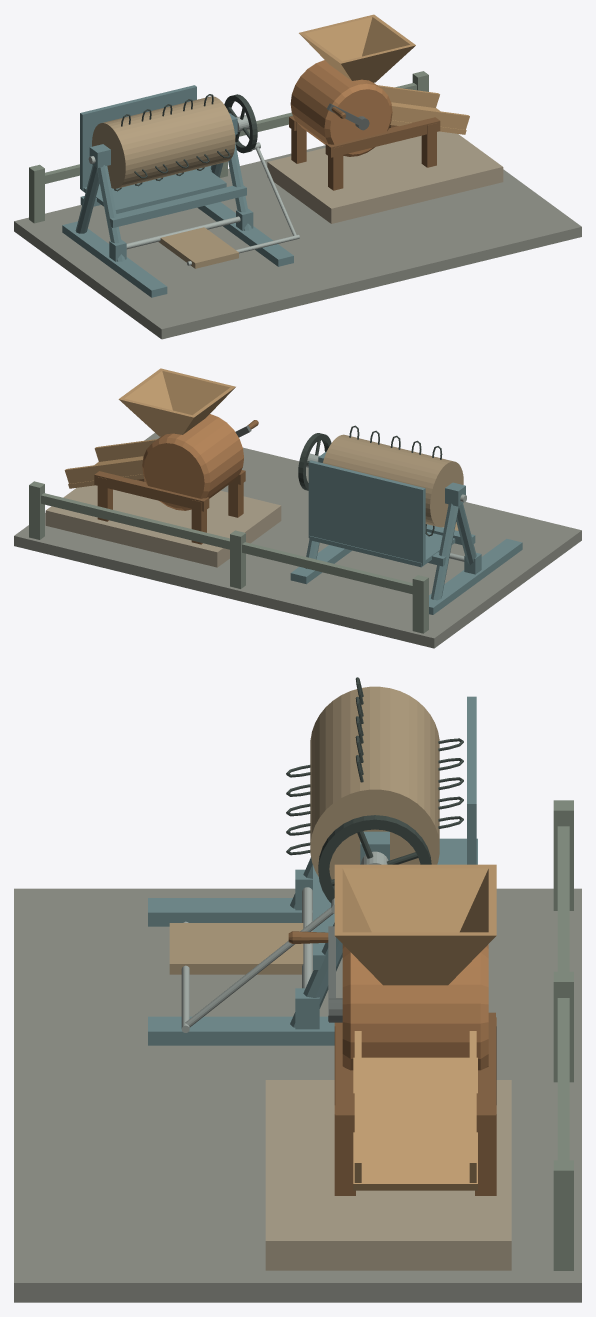
3 renders of one model, top to bottom at view 1: azimuth 30°, elevation 25°; view 2: azimuth 150°, elevation 25°; view 3: azimuth 270°, elevation 25°, orthographic. The views are drawn at different scales.
Parts seen in each view (by area): view 1: WholeSharedPreparationFloor, WholeShallowRaisedWinnowerPad, TreadleThresher__WholeWideWireLoopDrum, Winnower__WholeRoundedFanHousingDisplaySolid, Winnower__WholeSquareOpenTaperedHopper, TreadleThresher__WholeLowUnderDrumSheet, TreadleThresher__WholeUprightRearSheetBody, TreadleThresher__WholeBroadFrontTreadleBoard, TreadleThresher__WholeLongGroundSkid-1, TreadleThresher__WholeLowFrameCrossTie-1, TreadleThresher__WholeLongGroundSkid1, Winnower__WholeLongTimberSupportBeam1 (+12 smaller); view 2: WholeSharedPreparationFloor, TreadleThresher__WholeUprightRearSheetBody, WholeShallowRaisedWinnowerPad, Winnower__WholeRoundedFanHousingDisplaySolid, TreadleThresher__WholeWideWireLoopDrum, Winnower__WholeSquareOpenTaperedHopper, WholeLowRearBoundaryRail, TreadleThresher__WholeLongGroundSkid-1, Winnower__WholeLongTimberSupportBeam2, Winnower__WholeSlopingTroughSideWall2, TreadleThresher__WholeSplayedFrameLeg-1_1, TreadleThresher__WholeLowUnderDrumSheet (+12 smaller); view 3: WholeSharedPreparationFloor, WholeShallowRaisedWinnowerPad, TreadleThresher__WholeWideWireLoopDrum, Winnower__WholeSquareOpenTaperedHopper, Winnower__WholeSlopingDischargeTroughFloor, Winnower__WholeRoundedFanHousingDisplaySolid, TreadleThresher__WholeBroadFrontTreadleBoard, TreadleThresher__WholeLongGroundSkid1, WholeLowRearBoundaryRail, TreadleThresher__WholeLongGroundSkid-1, TreadleThresher__WholeOpenSideFlywheelRim, WholeLowRearBoundaryPost1.6 (+15 smaller).
Part boxes in pixels (x1,y1,x2,y2): WholeSharedPreparationFloor: [14, 145, 581, 339]; WholeShallowRaisedWinnowerPad: [267, 131, 503, 223]; TreadleThresher__WholeWideWireLoopDrum: [92, 96, 235, 188]; Winnower__WholeRoundedFanHousingDisplaySolid: [290, 60, 392, 156]; Winnower__WholeSquareOpenTaperedHopper: [299, 14, 415, 82]; TreadleThresher__WholeLowUnderDrumSheet: [81, 167, 226, 213]; TreadleThresher__WholeUprightRearSheetBody: [80, 85, 196, 190]; TreadleThresher__WholeBroadFrontTreadleBoard: [158, 227, 238, 268]; TreadleThresher__WholeLongGroundSkid-1: [62, 221, 167, 297]; TreadleThresher__WholeLowFrameCrossTie-1: [109, 185, 246, 227]; TreadleThresher__WholeLongGroundSkid1: [197, 202, 293, 266]; Winnower__WholeLongTimberSupportBeam1: [325, 117, 440, 157]; WholeSharedPreparationFloor: [14, 433, 581, 648]; TreadleThresher__WholeUprightRearSheetBody: [308, 460, 425, 565]; WholeShallowRaisedWinnowerPad: [45, 485, 281, 567]; Winnower__WholeRoundedFanHousingDisplaySolid: [142, 414, 243, 510]; TreadleThresher__WholeWideWireLoopDrum: [323, 434, 463, 527]; Winnower__WholeSquareOpenTaperedHopper: [118, 368, 235, 436]; WholeLowRearBoundaryRail: [41, 493, 412, 594]; TreadleThresher__WholeLongGroundSkid-1: [429, 538, 522, 614]; Winnower__WholeLongTimberSupportBeam2: [94, 471, 209, 511]; Winnower__WholeSlopingTroughSideWall2: [64, 459, 142, 483]; TreadleThresher__WholeSplayedFrameLeg-1_1: [431, 503, 458, 600]; TreadleThresher__WholeLowUnderDrumSheet: [309, 532, 455, 567]; WholeSharedPreparationFloor: [14, 888, 581, 1302]; WholeShallowRaisedWinnowerPad: [265, 1080, 511, 1270]; TreadleThresher__WholeWideWireLoopDrum: [310, 686, 439, 879]; Winnower__WholeSquareOpenTaperedHopper: [334, 864, 496, 985]; Winnower__WholeSlopingDischargeTroughFloor: [353, 1057, 477, 1190]; Winnower__WholeRoundedFanHousingDisplaySolid: [342, 944, 488, 1070]; TreadleThresher__WholeBroadFrontTreadleBoard: [169, 923, 303, 974]; TreadleThresher__WholeLongGroundSkid1: [148, 1016, 334, 1045]; WholeLowRearBoundaryRail: [557, 826, 569, 1160]; TreadleThresher__WholeLongGroundSkid-1: [148, 898, 312, 926]; TreadleThresher__WholeOpenSideFlywheelRim: [318, 815, 431, 902]; WholeLowRearBoundaryPost1.6: [553, 1160, 573, 1270].
Bounding box in the file's own units: 3.45 × 1.18 × 2.1.
